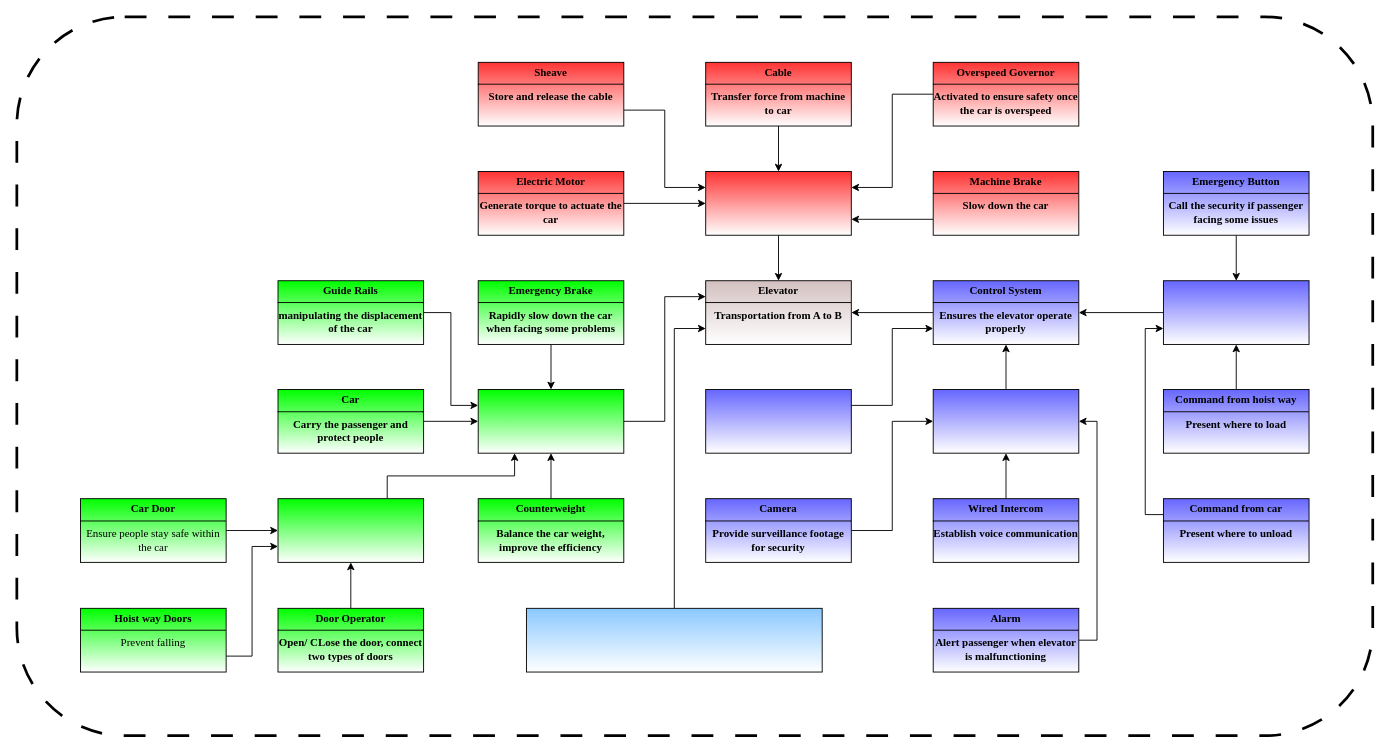
Some shapes in this 1390 by 753 pixel diagram are drawn without their labels. The centre of each missing label's shape, as x and y in pixels:
"Command Panel Control input from Users" belongs at point 1236,312.
"Communication System Media between Security member and passenger" belongs at point 1005,421.
"Controller Box Proceeding signals and control , respond to the user request" belongs at point 778,421.
"Doors Ensure people stay safe within the car/Prevent falling" belongs at point 350,530.
"Mechanical Structure Ensures basic function is availible" belongs at point 550,421.
"Power Supply Supply power to the Elevator" belongs at point 674,639.
"Traction System Actuate the car" belongs at point 778,203.
